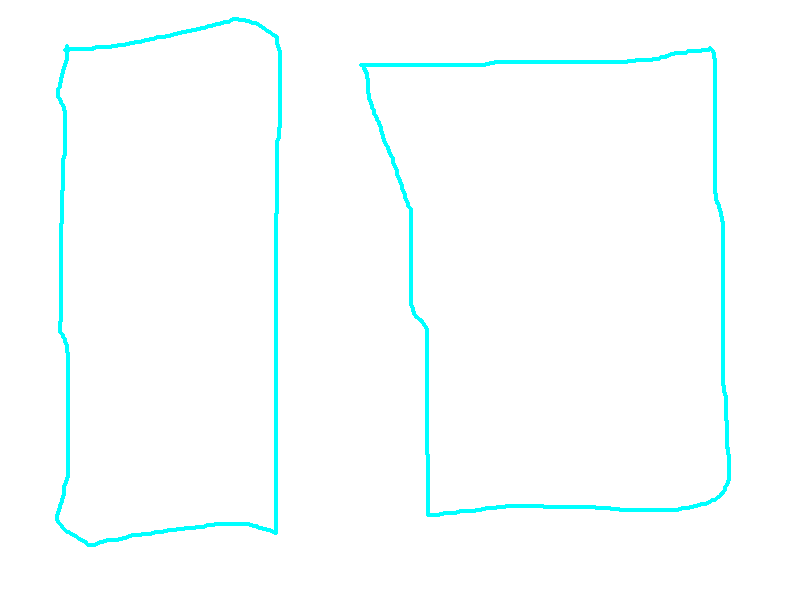rect: (359, 41, 735, 523), (49, 14, 287, 552)
